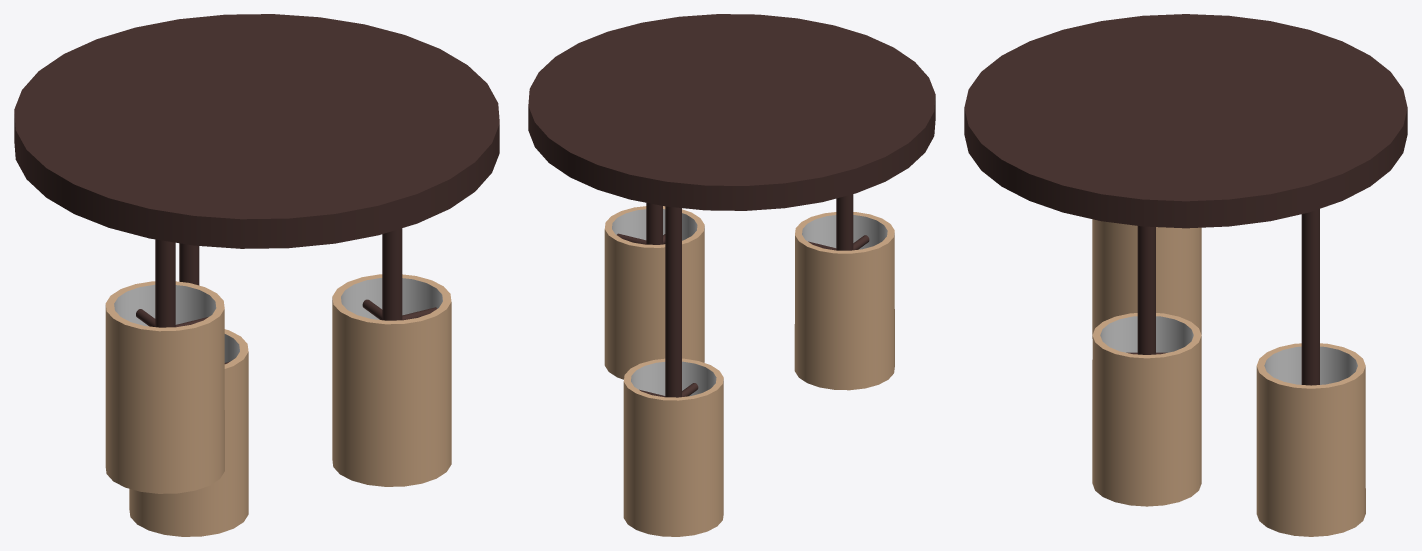
File: Spot2_6.fbx
The picture shows the model from 3 angles, left to right: view 1: azimuth 30°, elevation 25°; view 2: azimuth 150°, elevation 25°; view 3: azimuth 270°, elevation 25°; orthographic projection. The views are drawn at different scales.
Visible parts, largest first — view 1: pCylinder813, pPipe130, pPipe128, pPipe129, pCylinder811, pCylinder819, pCylinder816; view 2: pCylinder813, pPipe129, pPipe130, pPipe128, pCylinder816, pCylinder819, pCylinder811; view 3: pCylinder813, pPipe129, pPipe128, pPipe130, pCylinder816, pCylinder811.
Part boxes in pixels (<box>): pCylinder813: <box>14,14,499,248</box>; pPipe130: <box>105,281,224,493</box>; pPipe128: <box>332,274,451,486</box>; pPipe129: <box>129,329,248,536</box>; pCylinder811: <box>382,228,402,320</box>; pCylinder819: <box>155,239,175,327</box>; pCylinder816: <box>179,243,199,285</box>; pCylinder813: <box>528,14,935,210</box>; pPipe129: <box>623,358,723,536</box>; pPipe130: <box>794,212,894,390</box>; pPipe128: <box>604,206,704,379</box>; pCylinder816: <box>665,206,681,397</box>; pCylinder819: <box>836,194,853,250</box>; pCylinder811: <box>646,203,662,244</box>; pCylinder813: <box>964,14,1407,228</box>; pPipe129: <box>1256,343,1365,536</box>; pPipe128: <box>1092,313,1201,506</box>; pPipe130: <box>1092,219,1201,338</box>; pCylinder816: <box>1301,209,1319,385</box>; pCylinder811: <box>1137,226,1155,354</box>.
Size of the model in its own units: 24.84 by 25.1 by 24.84.
